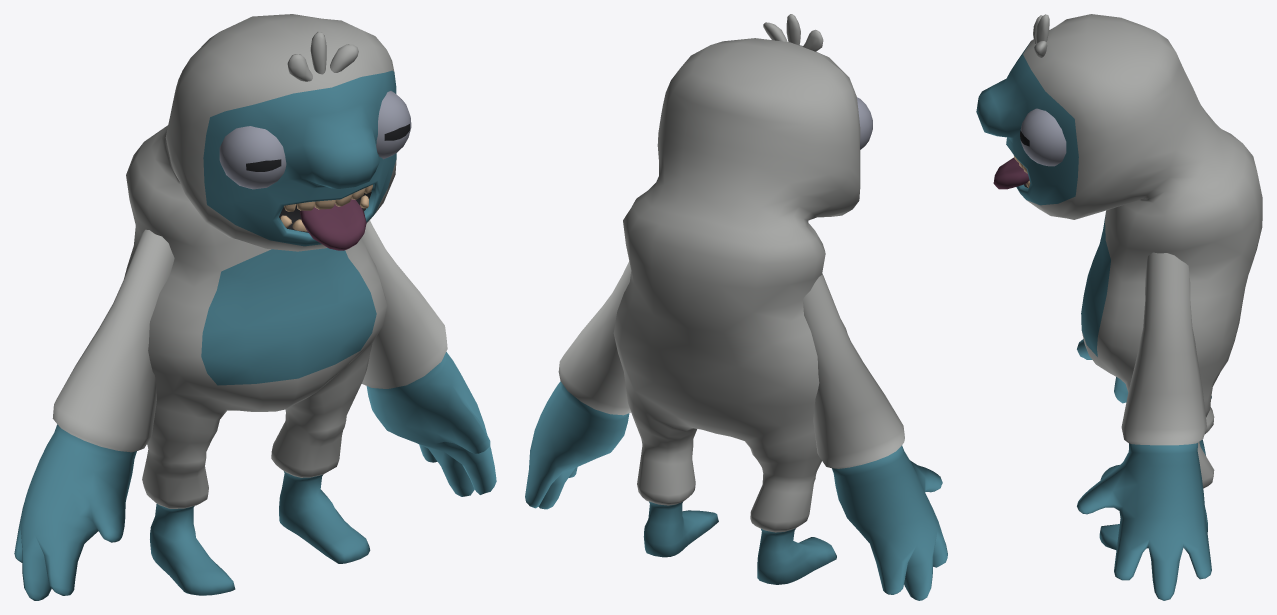
The model's file is Yeti.glb.
The picture shows the model from 3 angles, left to right: view 1: azimuth 30°, elevation 25°; view 2: azimuth 150°, elevation 25°; view 3: azimuth 270°, elevation 25°; orthographic projection. The views are drawn at different scales.
Parts seen in each view (by area): view 1: SK_Yeti; view 2: SK_Yeti; view 3: SK_Yeti.
Part boxes in pixels (x1,y1,x2,y2): SK_Yeti: (14, 14, 496, 600); SK_Yeti: (525, 14, 947, 600); SK_Yeti: (976, 14, 1262, 600).
Bounding box in the file's own units: 2.36 × 2.83 × 1.47.
Materials: 1 (1 with a texture image).
